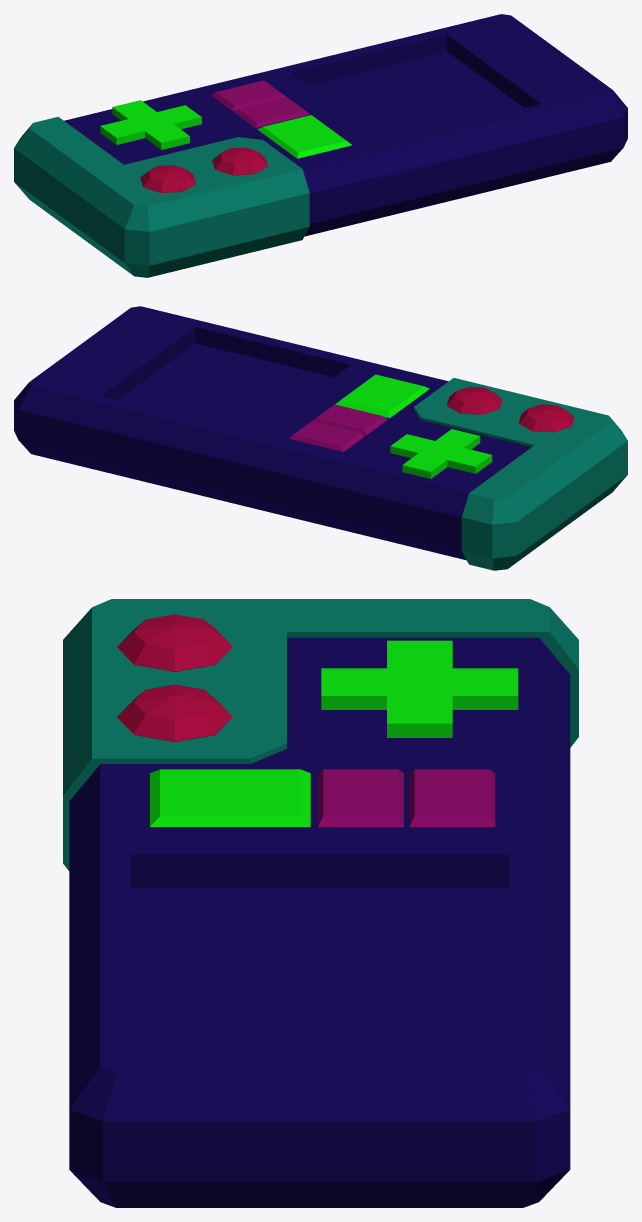
The model's file is Console.fbx.
3 views of the same model, one above another, from view 1: azimuth 30°, elevation 25°; view 2: azimuth 150°, elevation 25°; view 3: azimuth 270°, elevation 25° (orthographic). The views are drawn at different scales.
Parts seen in each view (by area): view 1: Main Part, PlasticPart, UpperButtons, CrossButton, RoundButtons; view 2: Main Part, PlasticPart, UpperButtons, CrossButton, RoundButtons; view 3: Main Part, PlasticPart, UpperButtons, CrossButton, RoundButtons.
Part boxes in pixels (x1,y1,x2,y2): Main Part: (64,14,627,236); PlasticPart: (14,116,309,277); UpperButtons: (211,80,351,158); CrossButton: (100,100,201,149); RoundButtons: (140,147,267,192); Main Part: (14,306,531,560); PlasticPart: (414,378,627,570); UpperButtons: (288,374,429,451); CrossButton: (390,429,492,478); RoundButtons: (446,386,574,432); Main Part: (69,637,570,1207); PlasticPart: (63,599,578,870); UpperButtons: (150,769,495,826); CrossButton: (321,640,518,737); RoundButtons: (117,614,232,741).
Bounding box in the file's own units: 767 × 120 × 340.
